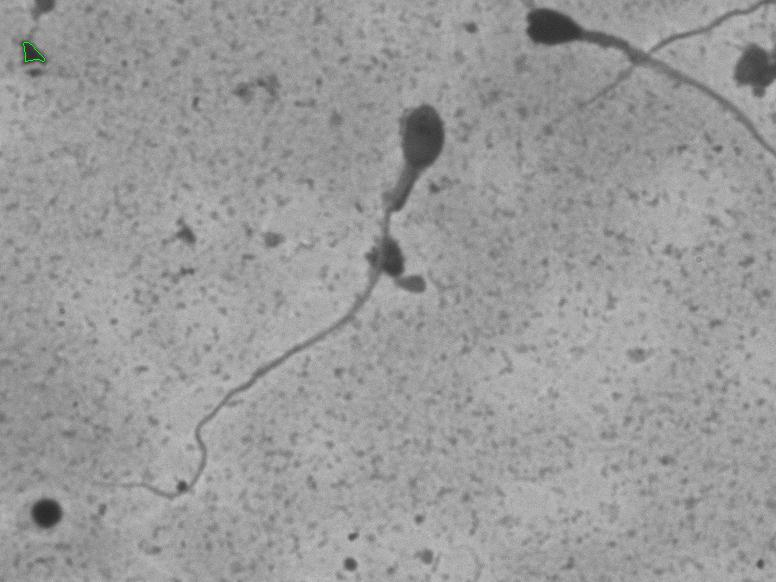Abnormal: (105, 79, 455, 515)
